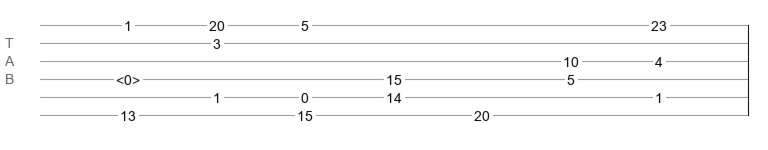0: (301, 90, 309, 100)
1: (124, 18, 132, 28), (213, 90, 221, 100), (655, 90, 663, 100)
10: (563, 54, 579, 64)
13: (120, 108, 136, 118)
14: (386, 90, 402, 100)
15: (297, 108, 313, 118), (386, 72, 402, 82)
20: (209, 18, 225, 28), (474, 108, 490, 118)
23: (651, 18, 667, 28)
3: (213, 36, 221, 46)
4: (655, 54, 663, 64)
5: (301, 18, 309, 28), (567, 72, 575, 82)
harmonic: (116, 72, 140, 82)
